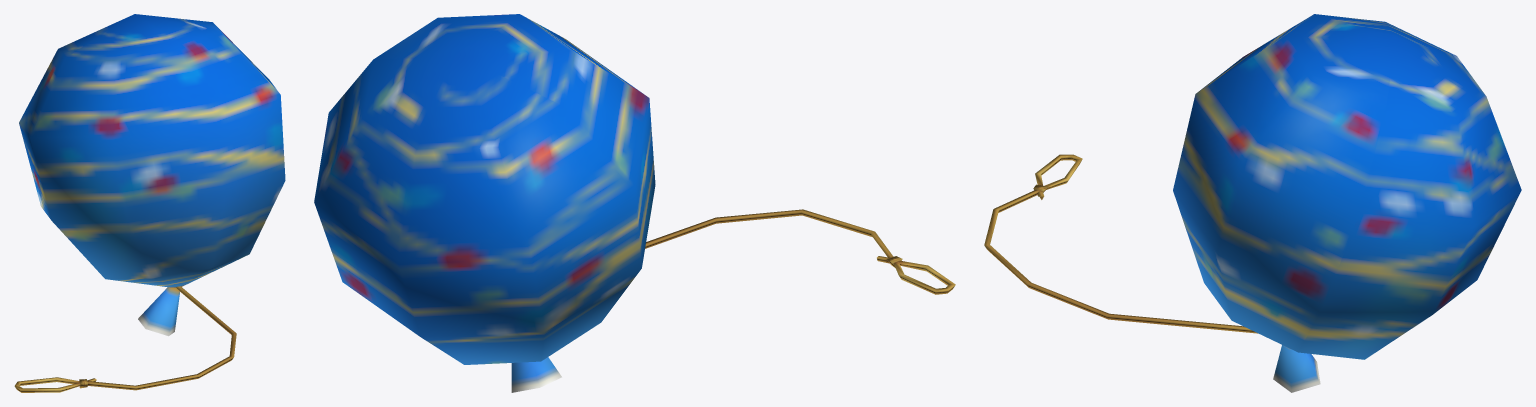
Rendered from jsf_WaterBalloon_02_c.fbx.
The picture shows the model from 3 angles, left to right: view 1: azimuth 30°, elevation 25°; view 2: azimuth 150°, elevation 25°; view 3: azimuth 270°, elevation 25°; orthographic projection. The views are drawn at different scales.
Visible parts, largest first — view 1: jsf_WaterBalloon_02_c; view 2: jsf_WaterBalloon_02_c; view 3: jsf_WaterBalloon_02_c.
Part boxes in pixels (box(x1,y1,x2,y2)): jsf_WaterBalloon_02_c: box(14, 14, 285, 392); jsf_WaterBalloon_02_c: box(314, 14, 955, 392); jsf_WaterBalloon_02_c: box(984, 14, 1521, 392).
Size of the model in its own units: 16.89 by 12.55 by 17.11.
